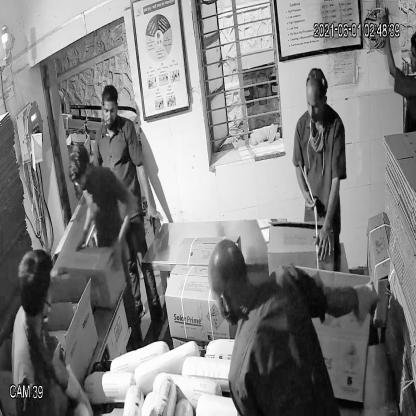no_goggles: (300, 94, 330, 115), (97, 100, 121, 118)
